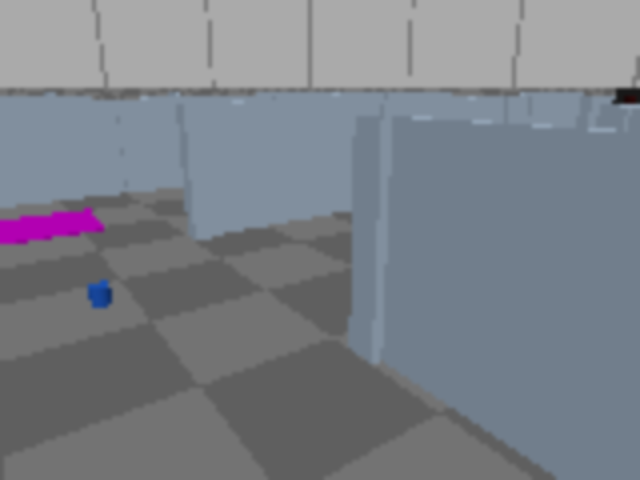goal_zone: (0, 209, 107, 247)
puck: (88, 282, 112, 308)
